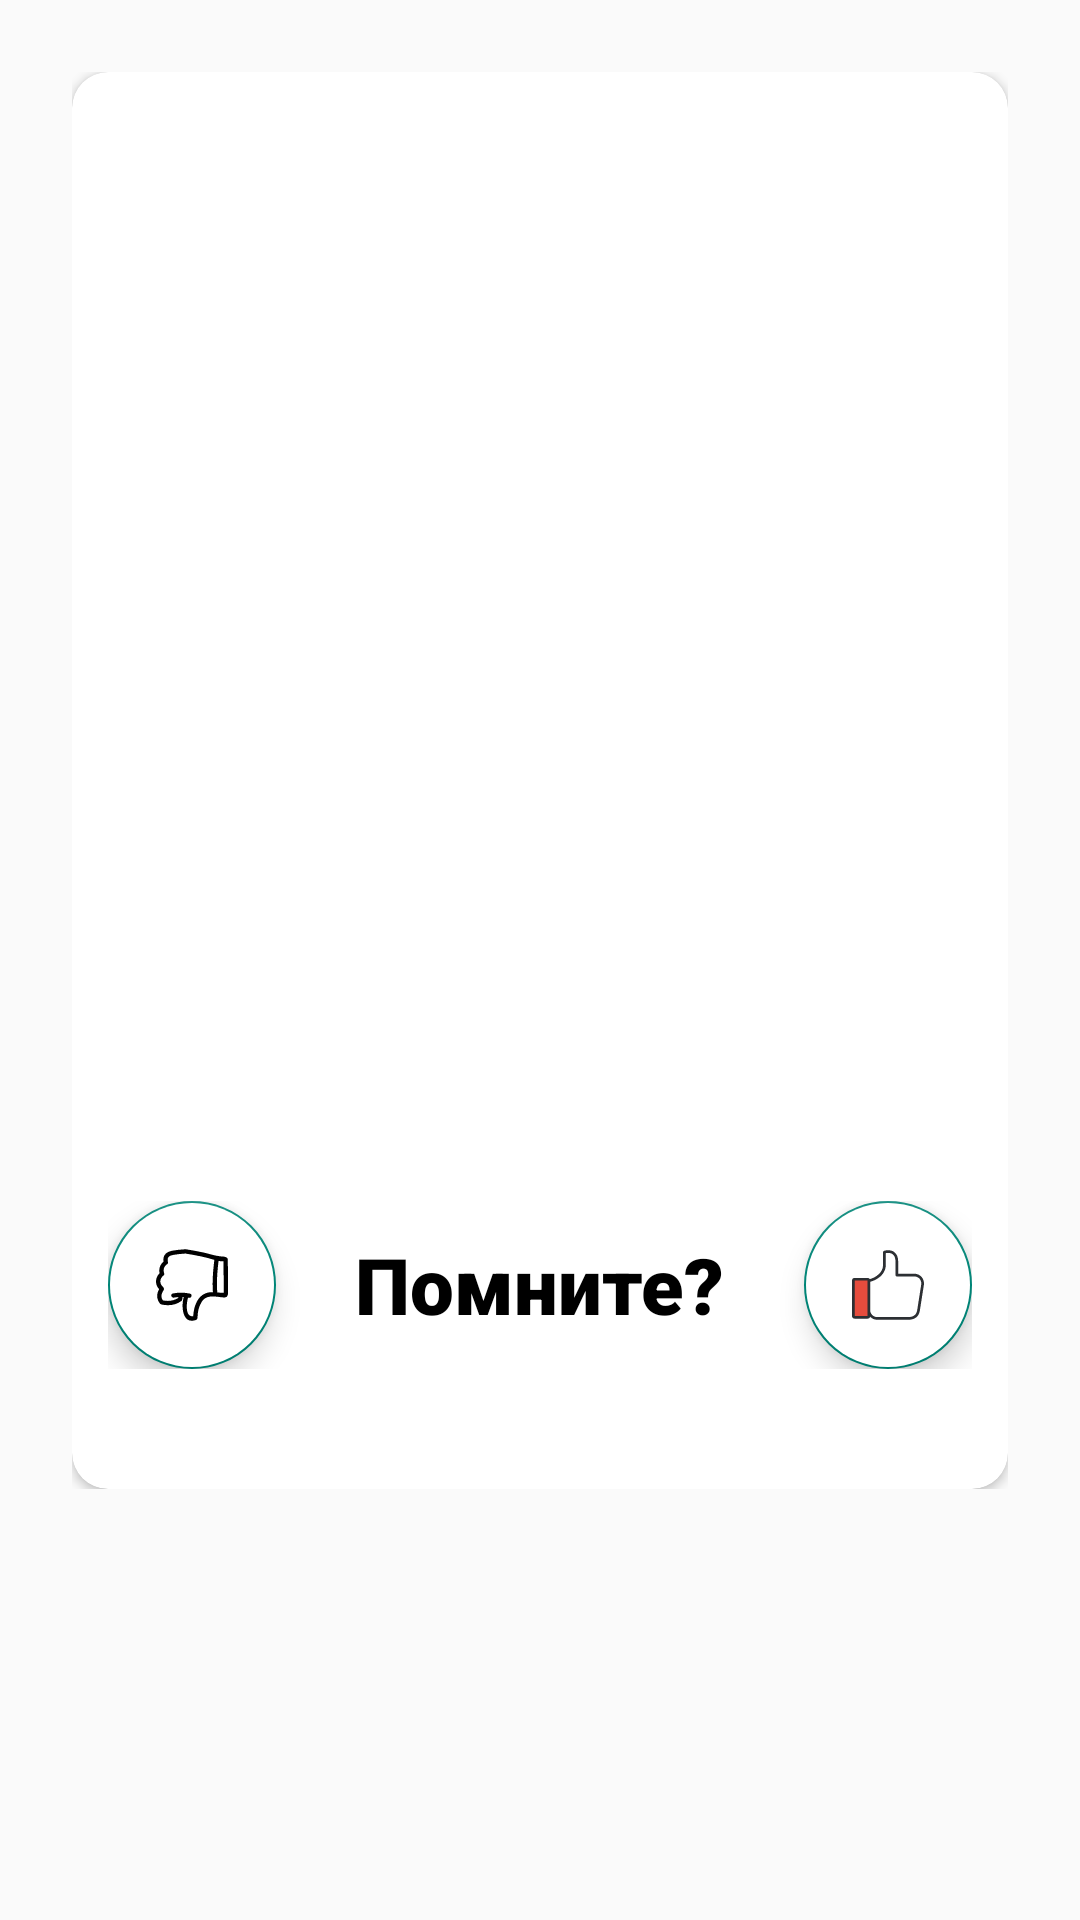

Named icons in this screenshot (1080*1920) and their bounding boxes, (x1,y1,x2,y2):
dont like symbol: (108,1201,276,1369)
like: (804,1201,972,1369)
